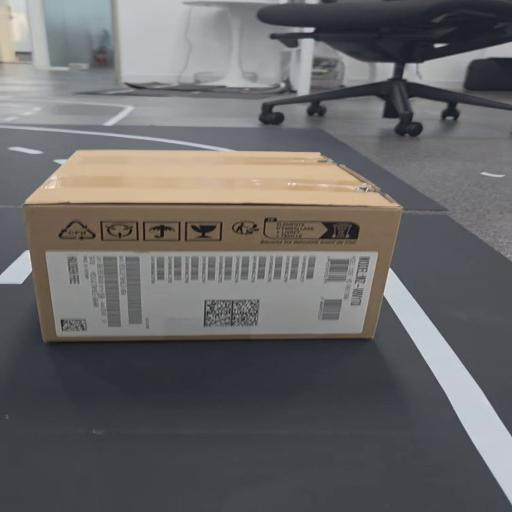Box: (32, 144, 402, 344)
